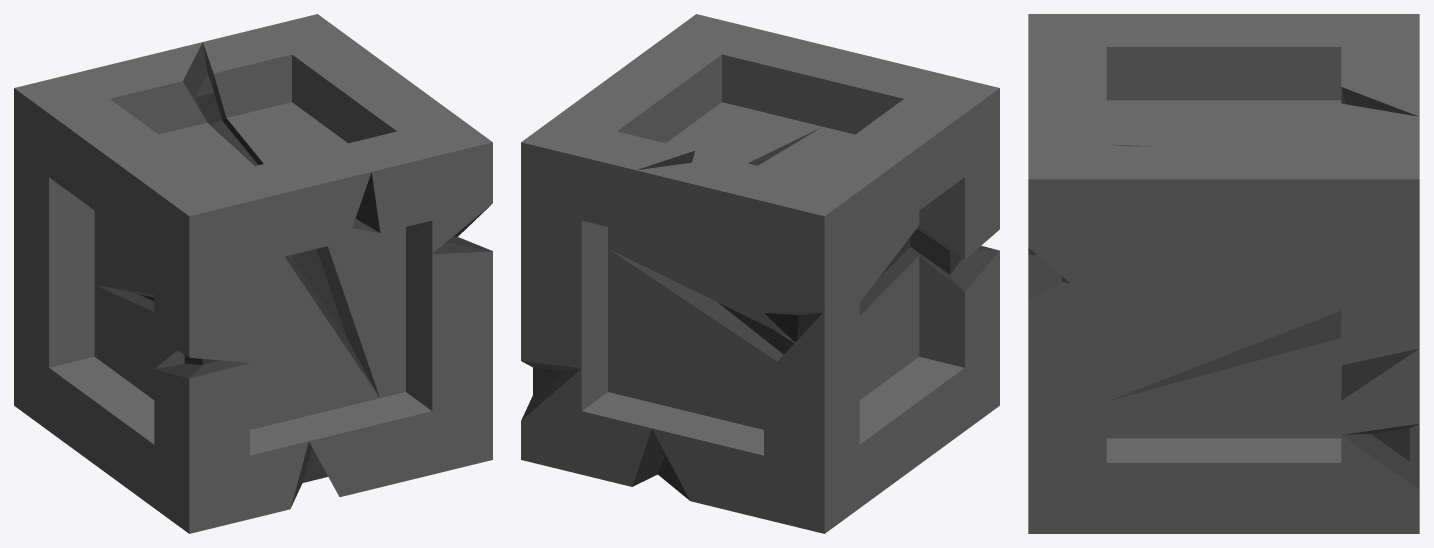
The model's file is stoneNEWDAMAGED.fbx.
The picture shows the model from 3 angles, left to right: view 1: azimuth 30°, elevation 25°; view 2: azimuth 150°, elevation 25°; view 3: azimuth 270°, elevation 25°; orthographic projection. The views are drawn at different scales.
Parts seen in each view (by area): view 1: Cube.001; view 2: Cube.001; view 3: Cube.001.
Part boxes in pixels (x1,y1,x2,y2): Cube.001: (14, 14, 492, 533); Cube.001: (521, 14, 999, 533); Cube.001: (1028, 14, 1419, 533).
Size of the model in its own units: 200 by 200 by 200.
